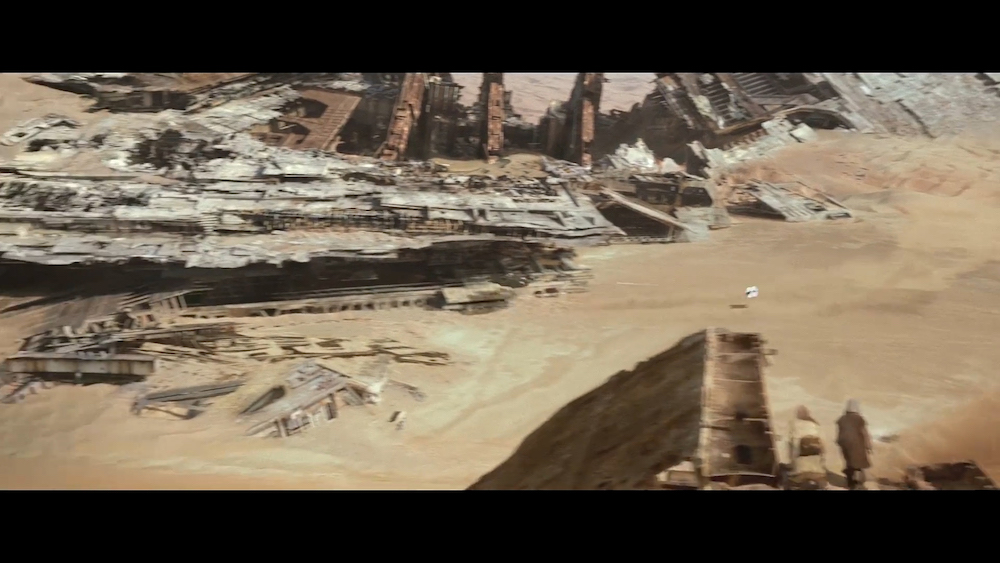Tie Fighter: (745, 286, 759, 300)
